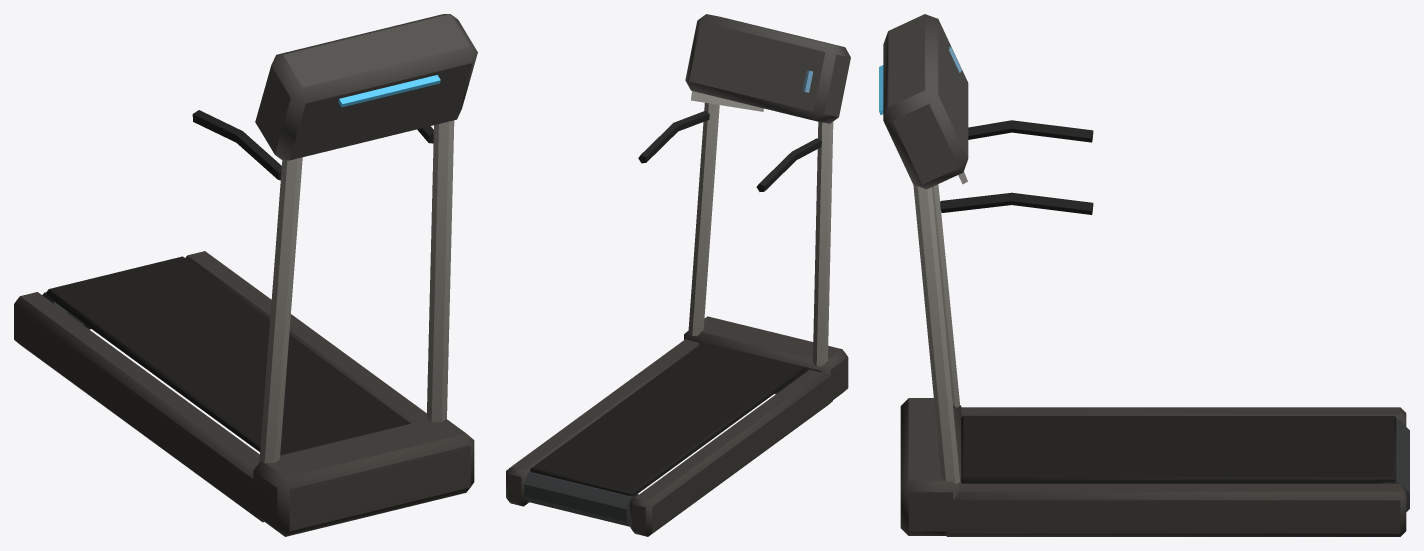
Rendered from 90_tapis_course.fbx.
3 views of the same model, side by side, from view 1: azimuth 30°, elevation 25°; view 2: azimuth 150°, elevation 25°; view 3: azimuth 270°, elevation 25° (orthographic). The views are drawn at different scales.
Visible parts, largest first — view 1: Chassis, Tapis, Ecran; view 2: Chassis, Tapis; view 3: Chassis, Tapis.
Part boxes in pixels (left/top/right/bottom): Chassis: left=14, top=14, right=477, bottom=536; Tapis: left=42, top=256, right=410, bottom=455; Ecran: left=338, top=75, right=440, bottom=107; Chassis: left=506, top=14, right=850, bottom=536; Tapis: left=524, top=342, right=804, bottom=526; Chassis: left=883, top=14, right=1406, bottom=536; Tapis: left=961, top=416, right=1409, bottom=511.
Bounding box in the file's own units: 0.56 × 1.29 × 1.4.
Materials: 1 (1 with a texture image).
